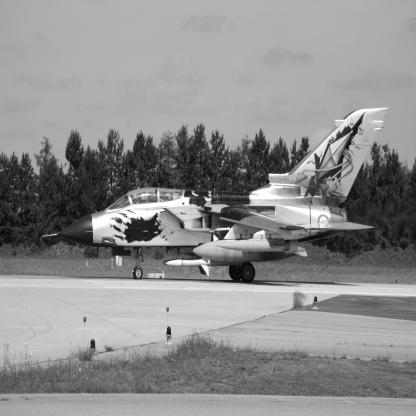Tornado: (42, 108, 390, 284)
